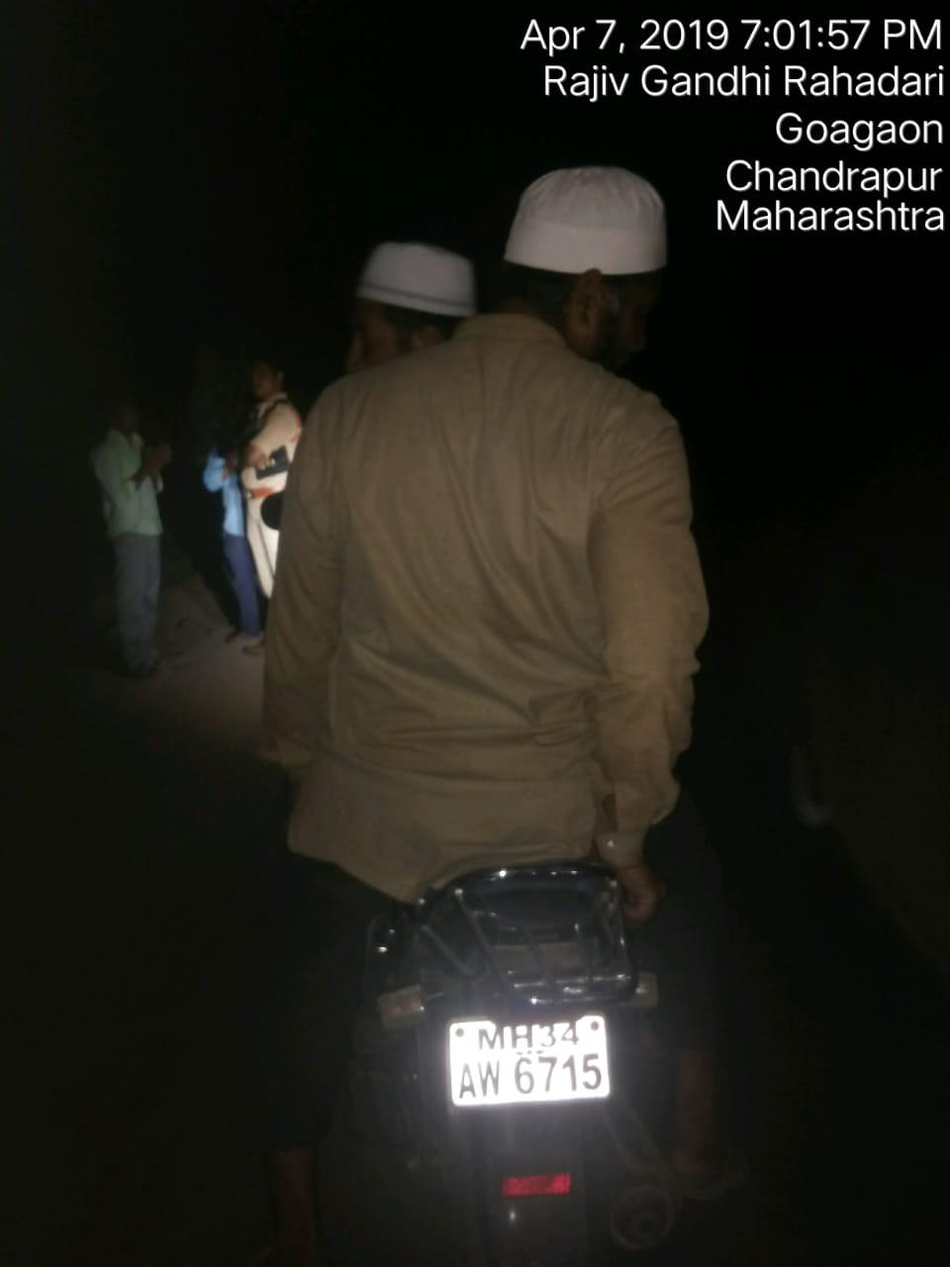plate: (420, 988, 672, 1126)
